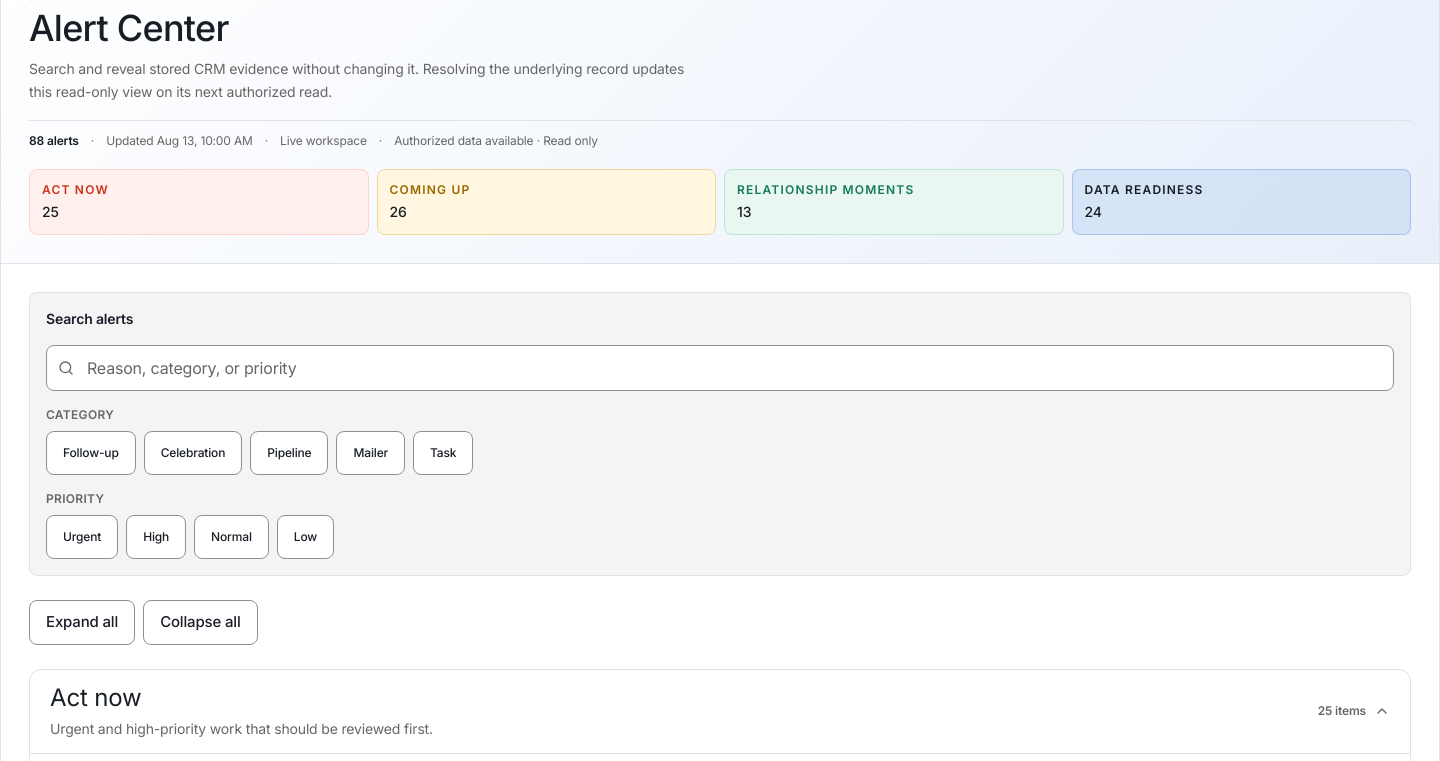
it: AlertCenter mounted progressive disclosure › clears criteria after filtered-zero and restores the canonical result with 12-item limits
This screenshot has width=1440, height=761.
Step 1. Type "not in the catalog" into the search field labelled "Search alerts" → (720, 368), box [46,344,1394,391]
(page scrolled)
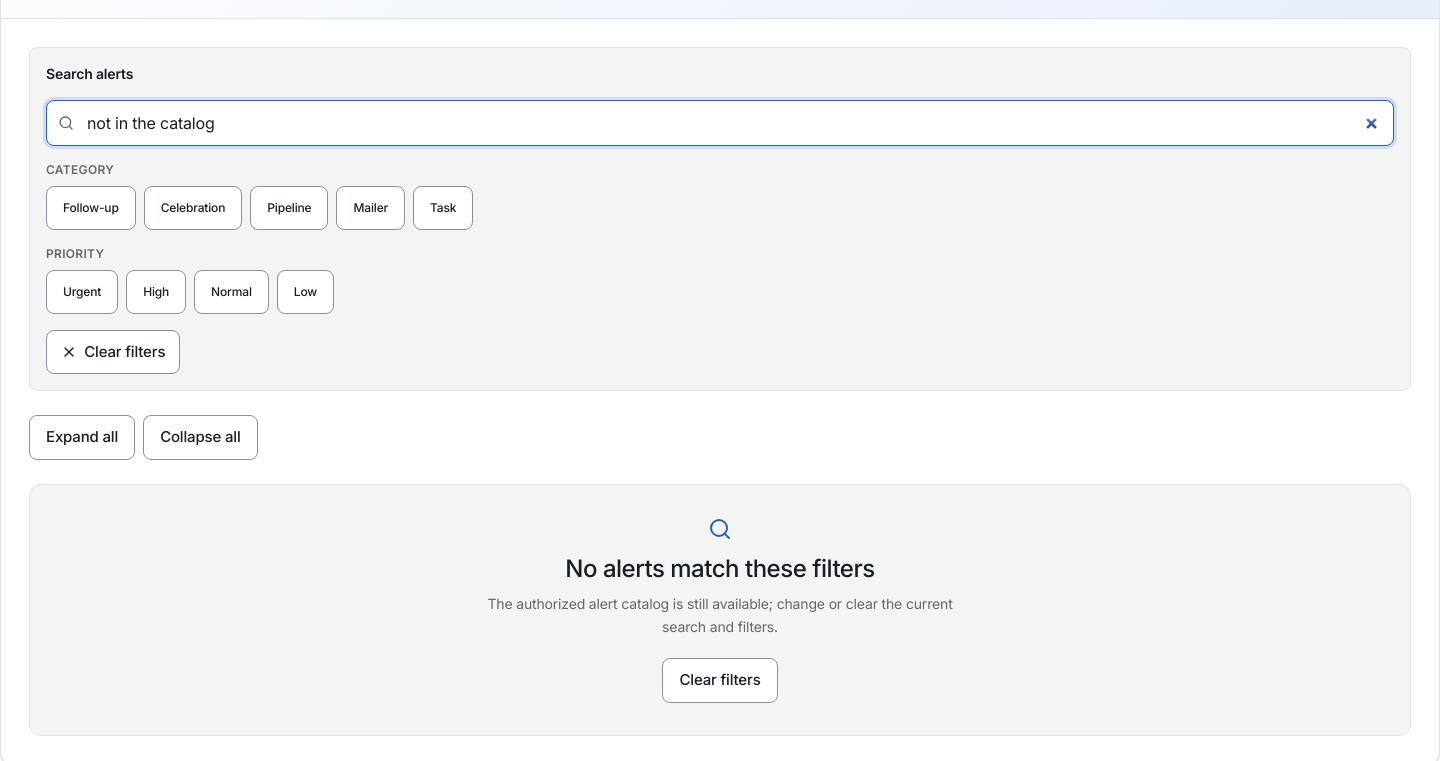
Now the heading "No alerts match these filters" is shown, box [565,554,875,583]
Step 2. Click the button "Clear filters" below "No alerts match these filters" → (720, 681), box [662,658,778,703]
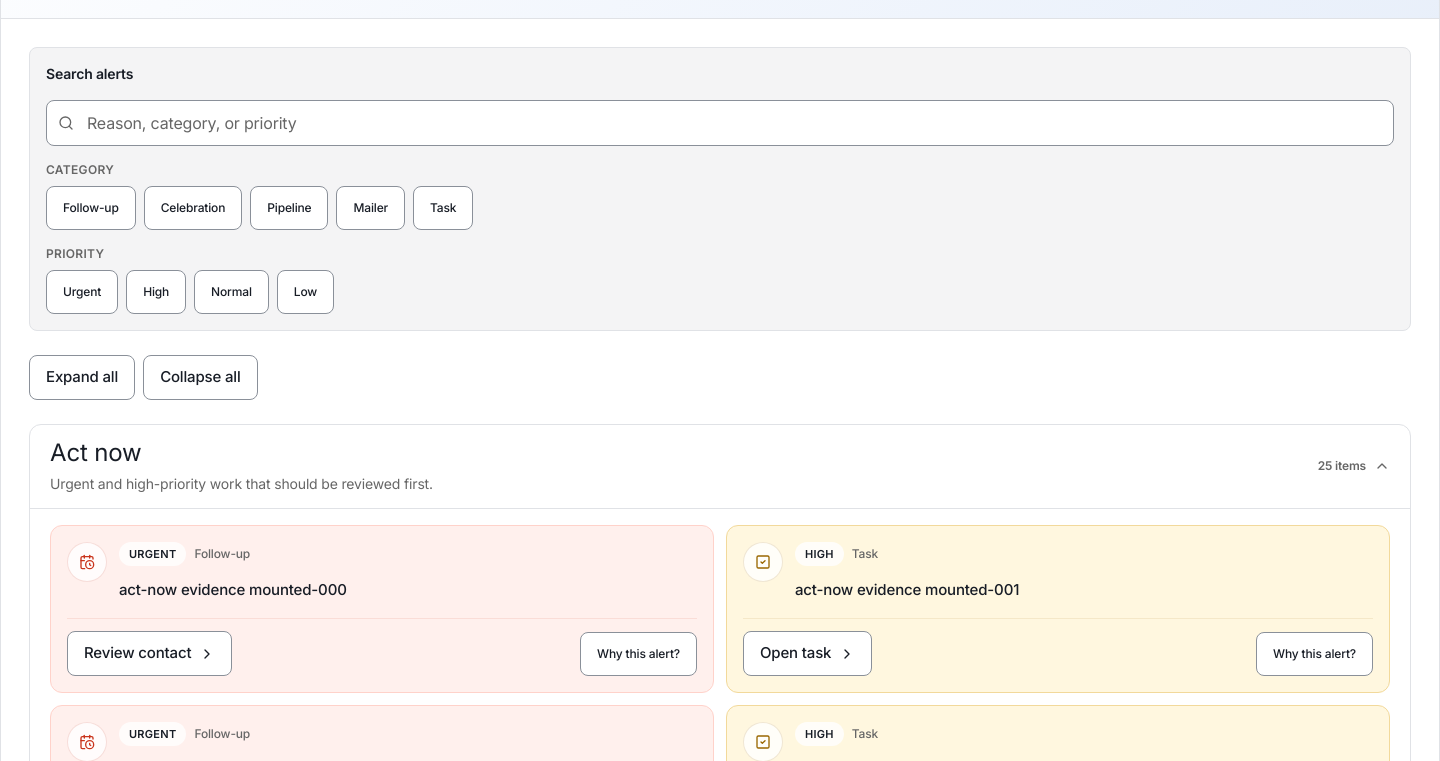
Now the search field labelled "Search alerts" is empty, box [46,100,1394,146]
Now the heading "No alerts match these filters" is gone
